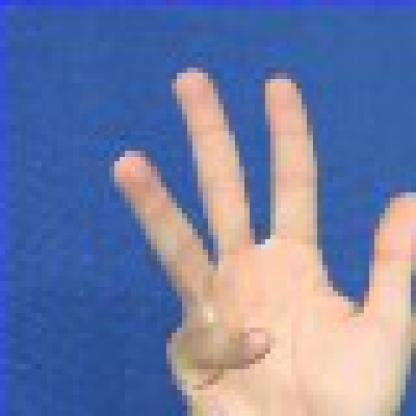nine: (62, 36, 411, 411)
